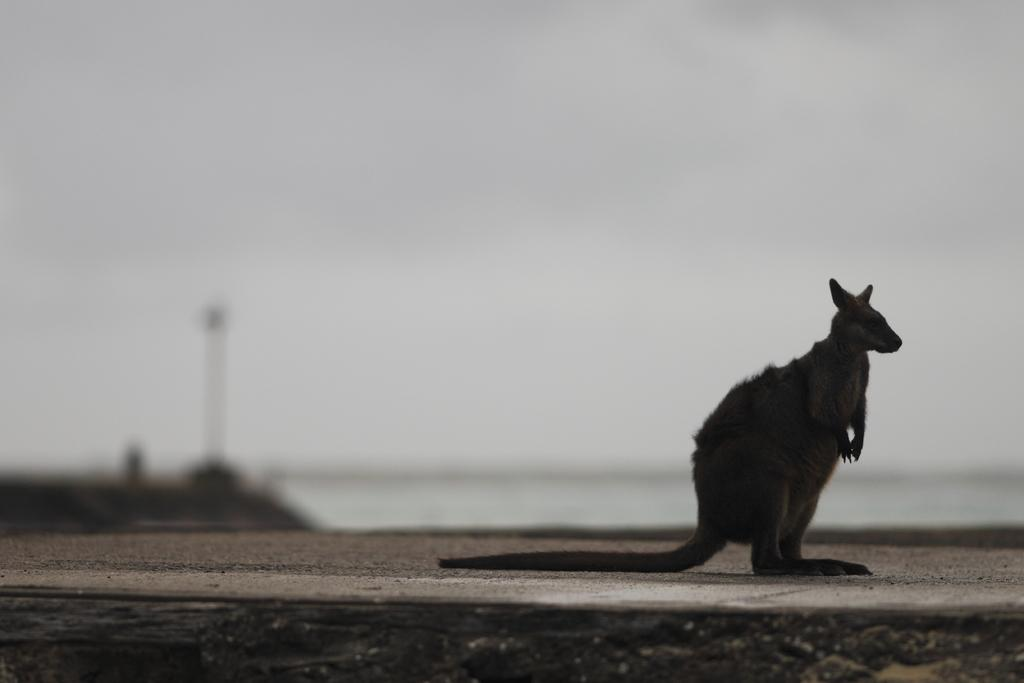kangaroo: (433, 279, 908, 569)
